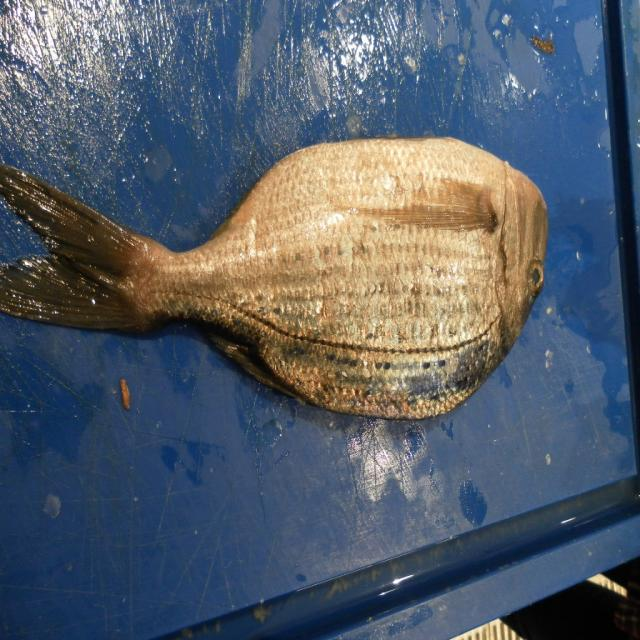Red-Sea-Bream-mercan-: (0, 136, 550, 422)
